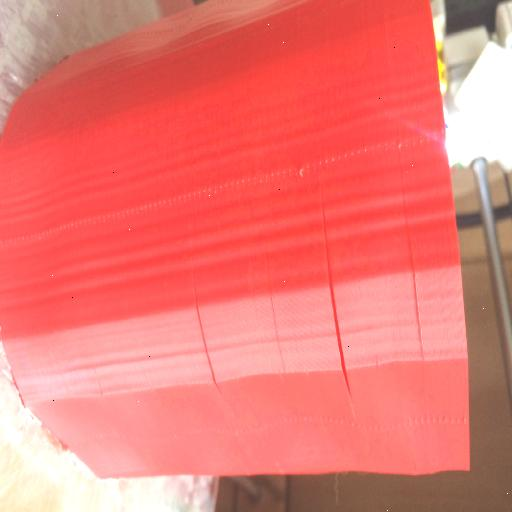cracks: (301, 200, 344, 404), (391, 187, 431, 359), (179, 257, 219, 393)
